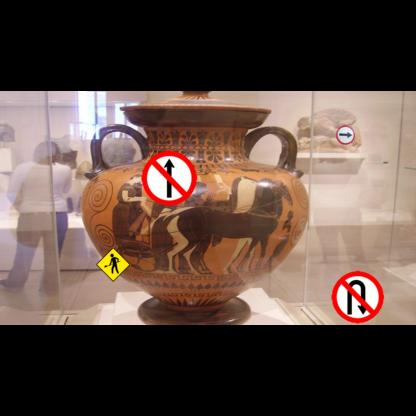A-24: (96, 247, 130, 282)
R-24a: (336, 125, 355, 145)
R-3: (141, 151, 197, 205)
